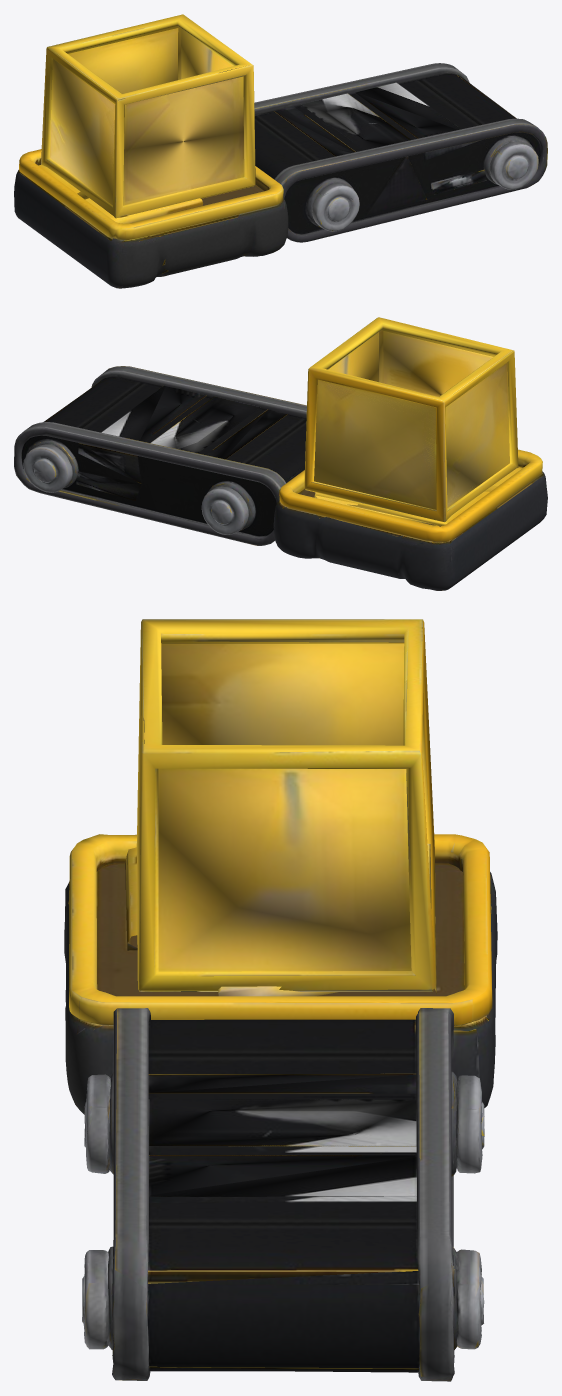
File: s2_r5c6_conveyor_with_seller.glb
3 renders of one model, top to bottom at view 1: azimuth 30°, elevation 25°; view 2: azimuth 150°, elevation 25°; view 3: azimuth 270°, elevation 25°, orthographic. The views are drawn at different scales.
Size of the model in its own units: 1 by 0.3978 by 0.4239.
Materials: 1 (1 with a texture image).
